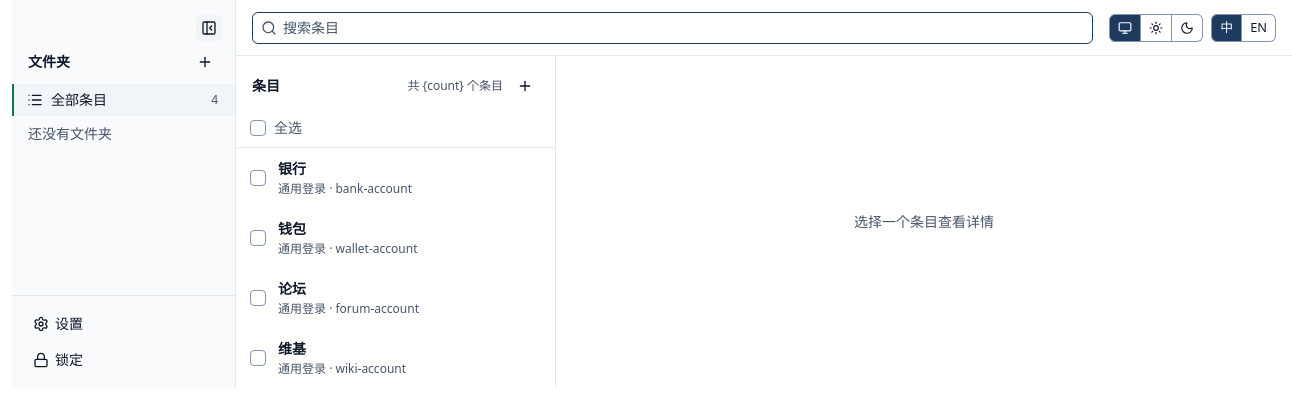
手动锁定: 回到解锁页并清空内存里的数据 › 点锁定后显示解锁页, 三栏主界面与条目都不在文档里
Step 1. Click the button "锁定" → (124,360), box left=24, top=344, right=223, bottom=376
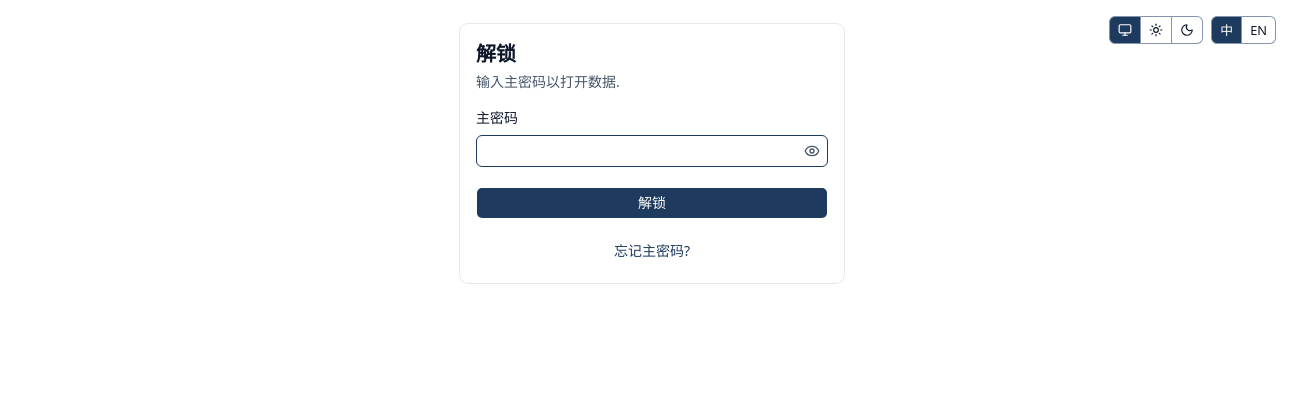
Check: the heading "解锁" is shown, box left=476, top=40, right=516, bottom=67
Check: the text "银行" is gone
